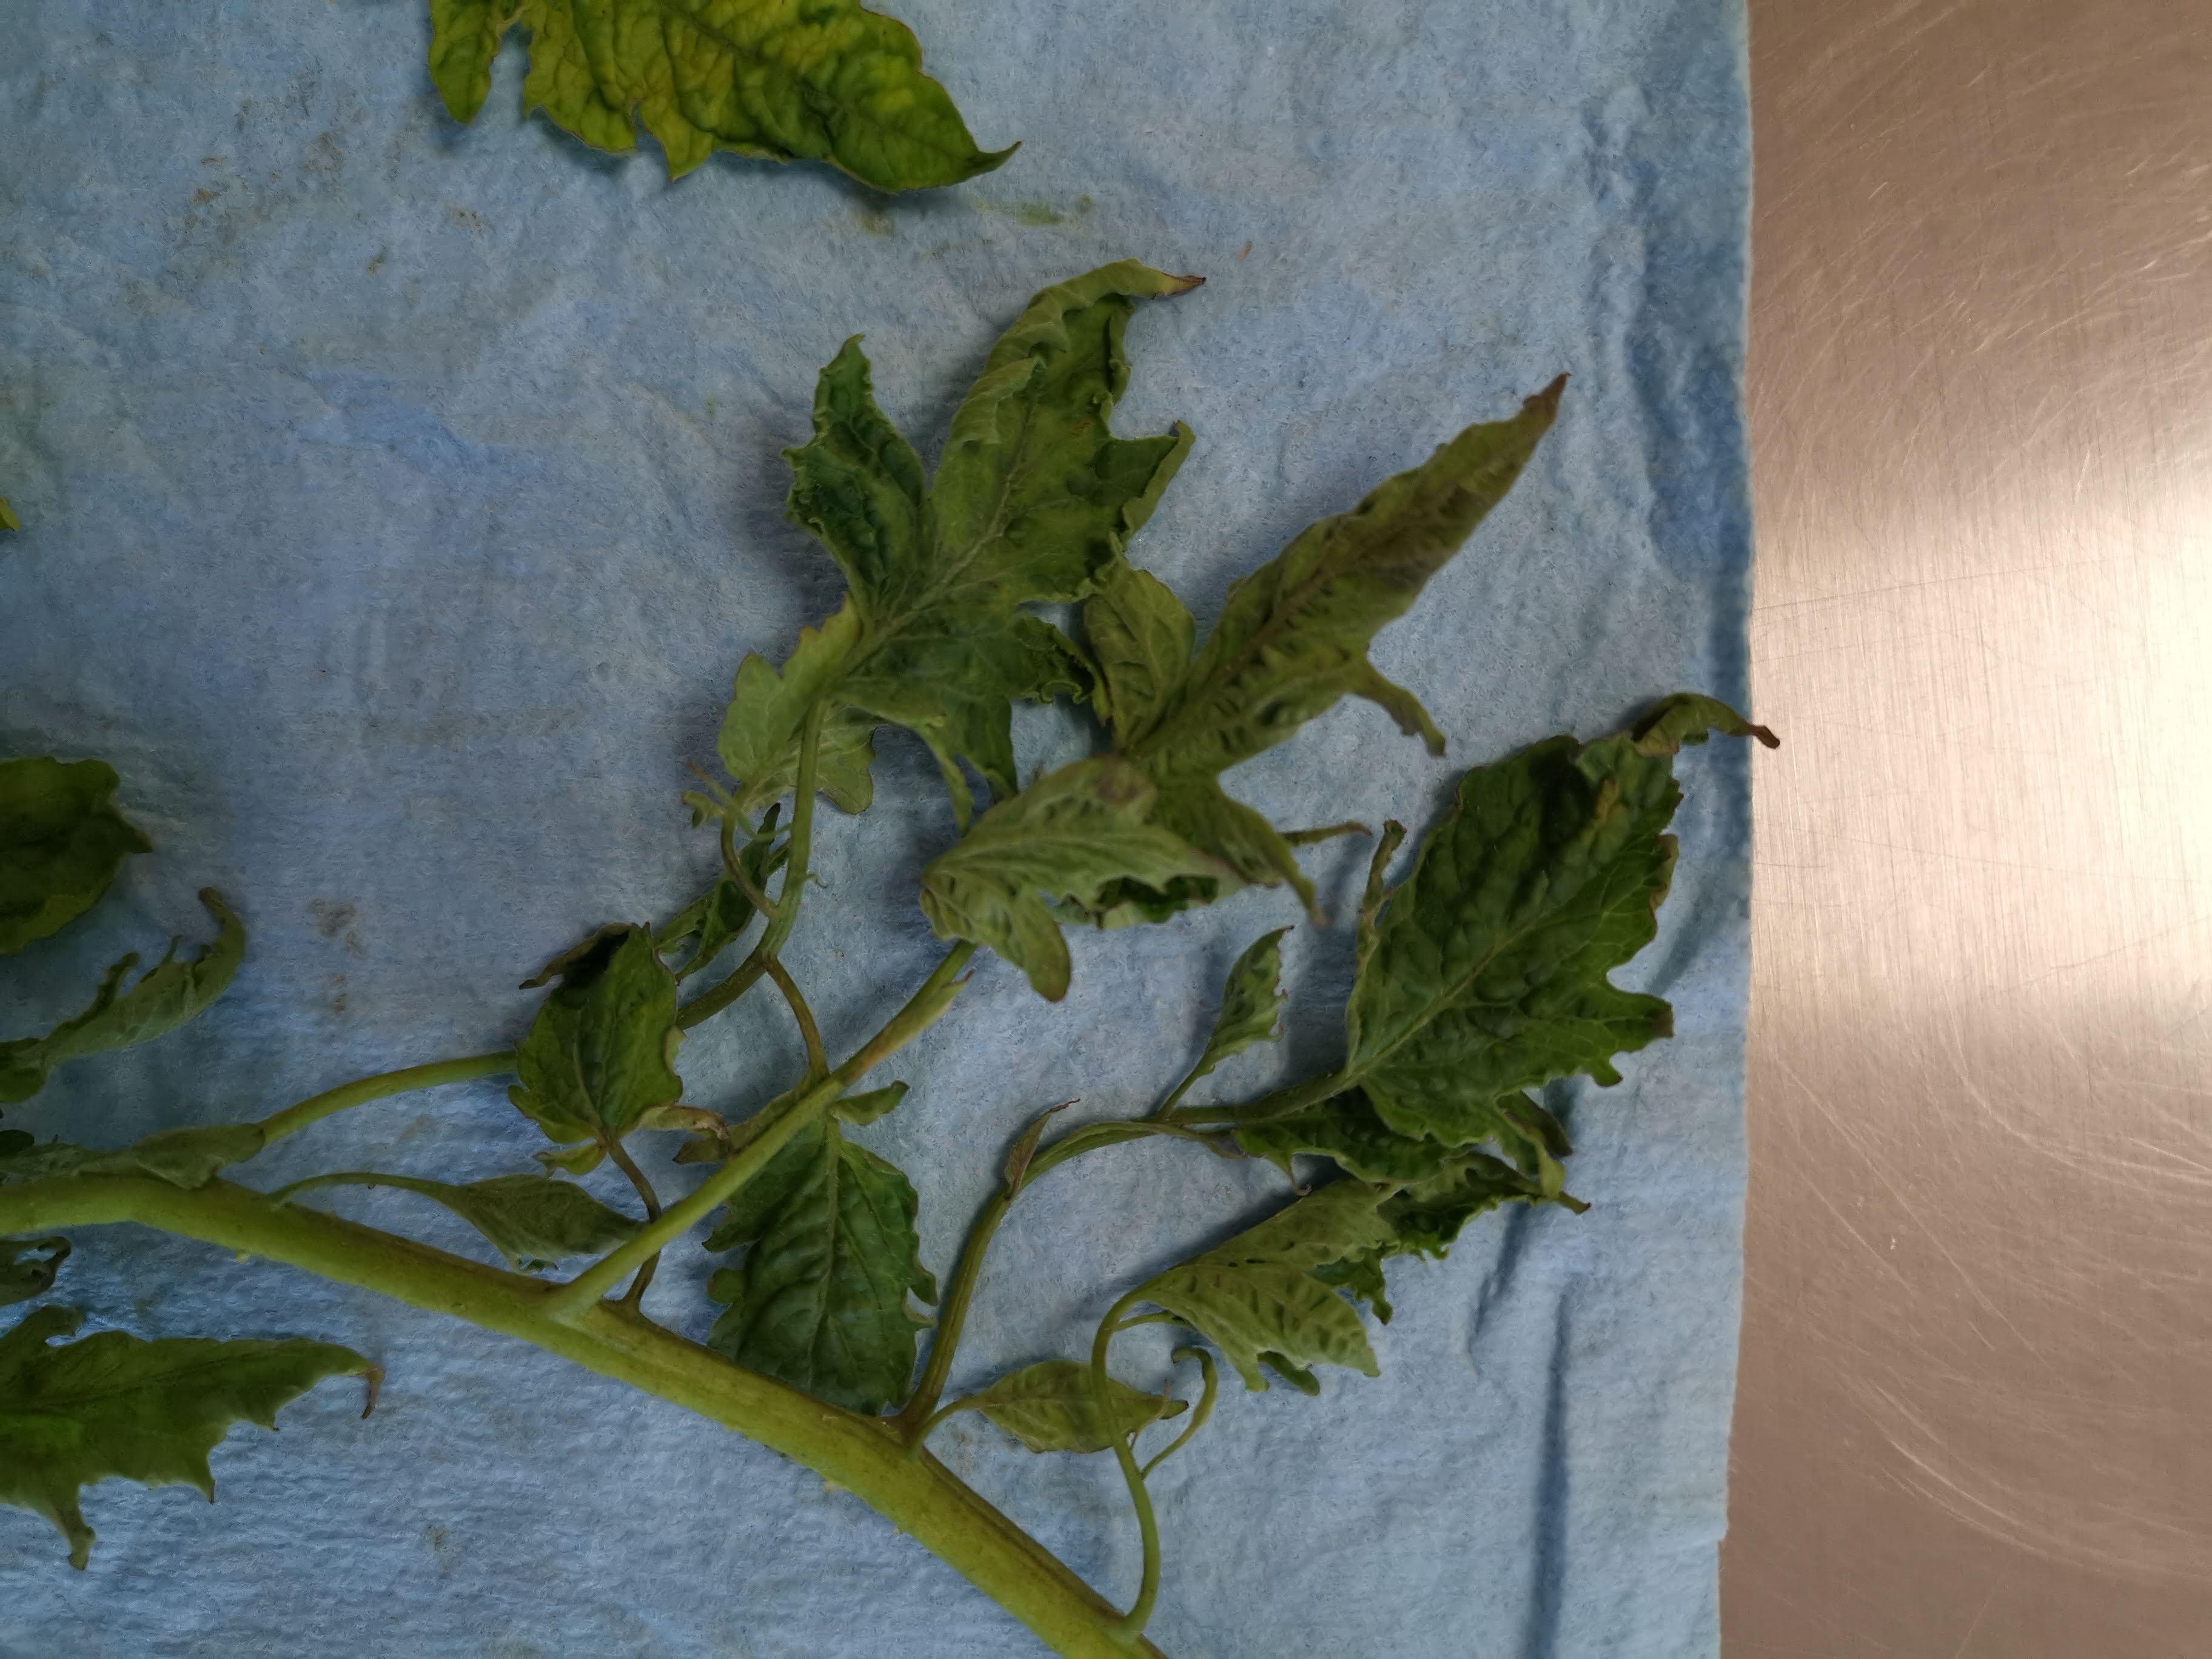Hoja rugoso: (791, 260, 1193, 791), (1123, 376, 1564, 847), (1339, 730, 1681, 1145), (428, 0, 1007, 190), (920, 756, 1235, 1002), (707, 1093, 946, 1412), (1127, 1180, 1395, 1391), (510, 925, 683, 1145), (718, 605, 878, 812)
Pedunculo rugoso: (0, 1175, 1153, 1654), (554, 941, 972, 1317), (700, 701, 826, 1016), (272, 1171, 644, 1270), (894, 1192, 1010, 1443), (1158, 929, 1287, 1115), (260, 1049, 519, 1140), (1094, 1326, 1162, 1642), (765, 955, 829, 1084)
